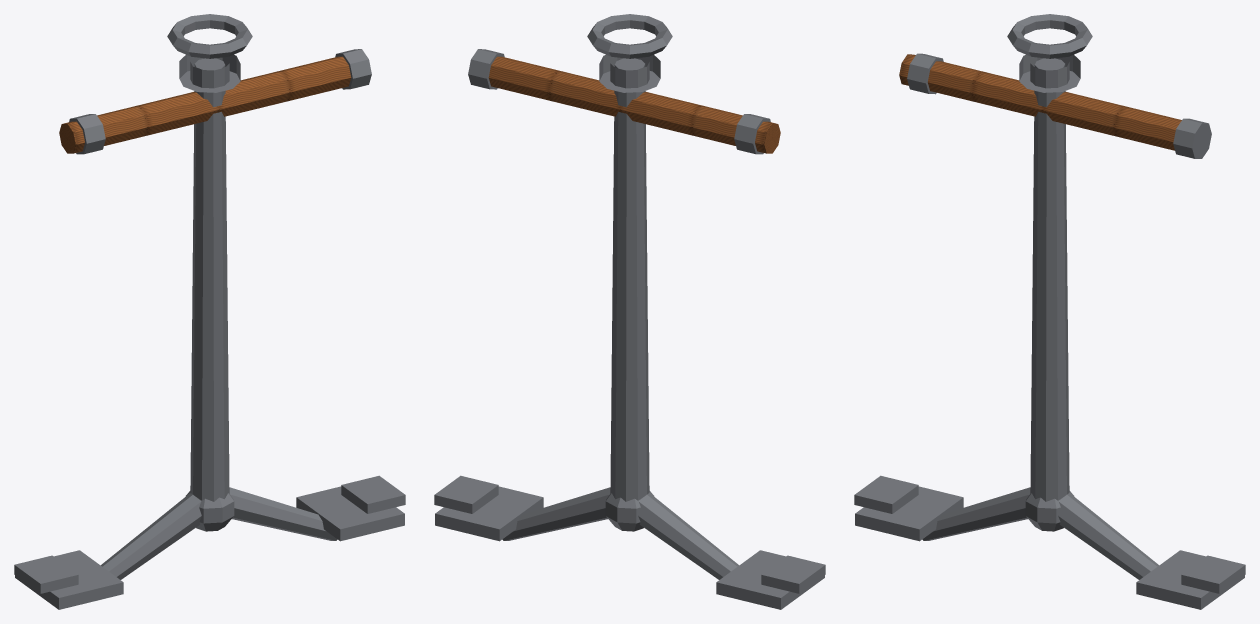
File: pirate-port-and-tall-ships-admiralty-anchor-c97f1d3d__30159.glb
The picture shows the model from 3 angles, left to right: view 1: azimuth 30°, elevation 25°; view 2: azimuth 150°, elevation 25°; view 3: azimuth 330°, elevation 25°; orthographic projection.
Visible parts, largest first — view 1: admiralty-anchor; view 2: admiralty-anchor; view 3: admiralty-anchor.
Boxes of the visible parts, bbox=[...] form: admiralty-anchor: bbox=[14, 14, 405, 609]; admiralty-anchor: bbox=[434, 14, 825, 609]; admiralty-anchor: bbox=[854, 14, 1245, 609].
Bounding box in the file's own units: 1.92 × 2.72 × 0.3999.
Materials: 2 (1 with a texture image).
